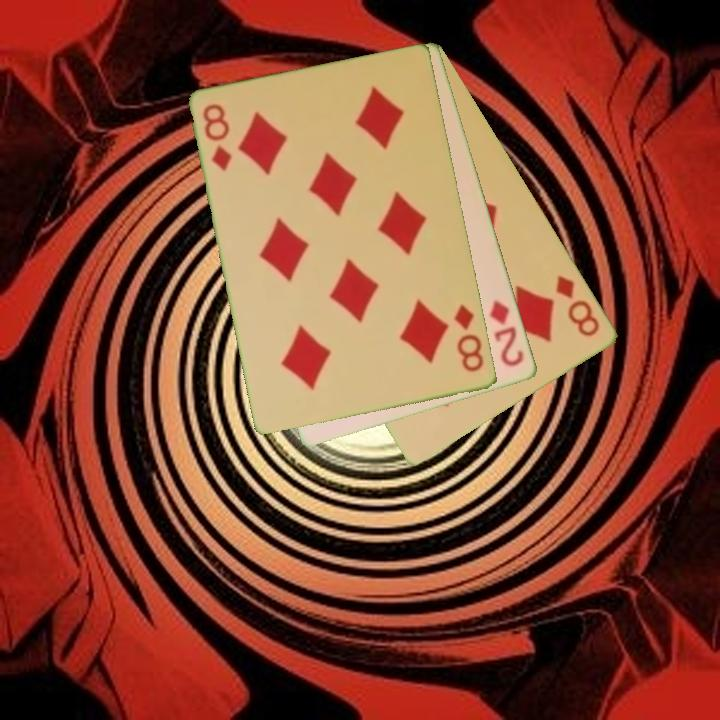2d: (486, 296, 527, 370)
8d: (552, 272, 604, 340), (199, 100, 235, 175), (451, 301, 487, 375)
